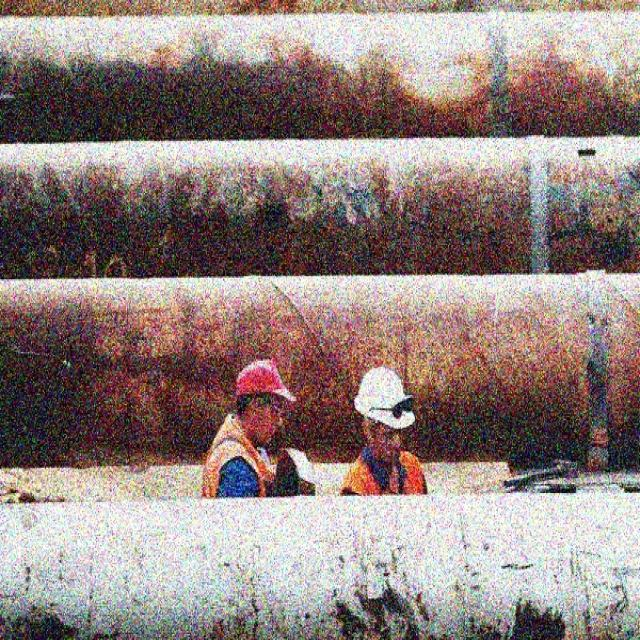rust: (0, 298, 639, 466), (0, 132, 639, 269), (1, 55, 639, 140)
